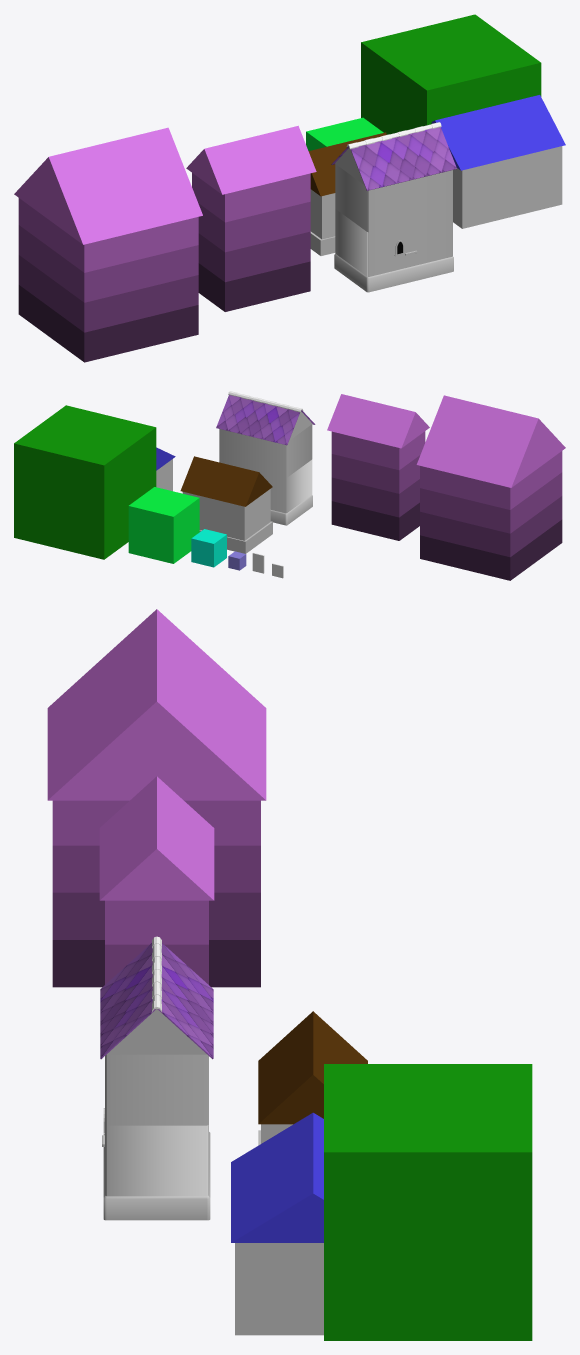
File: small_house_006.fbx
3 views of the same model, one above another, from view 1: azimuth 30°, elevation 25°; view 2: azimuth 150°, elevation 25°; view 3: azimuth 270°, elevation 25° (orthographic). The views are drawn at different scales.
Parts seen in each view (by area): view 1: 8x8m_Part, 0_Roof, Walls, Roof, 2_Middle_Top, 3_Middle_Bottom, 4_Bottom, 0_Roof.001, Stone_Wall, 1_Top, Plaster_Wall, Roof_Scaled_Up (+10 smaller); view 2: 8x8m_Part, 0_Roof, 4x4m_Part, 2_Middle_Top, 4_Bottom, 3_Middle_Bottom, 0_Roof.001, 1_Top, Plaster_Wall, Roof.001, Roof_Scaled_Up, Walls.001 (+12 smaller); view 3: 8x8m_Part, 0_Roof, 0_Roof.001, Roof, Walls, Roof_Scaled_Up, Stone_Wall, Plaster_Wall, Roof.001, 1_Top, 4_Bottom, 3_Middle_Bottom (+5 smaller).
Boxes of the visible parts, x1=… form: 8x8m_Part: x1=361, y1=14, x2=541, y2=134; 0_Roof: x1=14, y1=127, x2=202, y2=244; Walls: x1=453, y1=146, x2=562, y2=228; Roof: x1=431, y1=95, x2=565, y2=170; 2_Middle_Top: x1=18, y1=225, x2=198, y2=302; 3_Middle_Bottom: x1=18, y1=255, x2=198, y2=332; 4_Bottom: x1=18, y1=285, x2=198, y2=362; 0_Roof.001: x1=186, y1=125, x2=316, y2=194; Stone_Wall: x1=335, y1=209, x2=452, y2=276; 1_Top: x1=18, y1=198, x2=198, y2=272; Plaster_Wall: x1=335, y1=164, x2=452, y2=232; Roof_Scaled_Up: x1=331, y1=127, x2=456, y2=190; 8x8m_Part: x1=14, y1=405, x2=156, y2=559; 0_Roof: x1=416, y1=395, x2=565, y2=487; 4x4m_Part: x1=128, y1=487, x2=199, y2=563; 2_Middle_Top: x1=420, y1=472, x2=562, y2=533; 4_Bottom: x1=420, y1=519, x2=562, y2=580; 3_Middle_Bottom: x1=420, y1=496, x2=562, y2=557; 0_Roof.001: x1=327, y1=394, x2=429, y2=448; 1_Top: x1=420, y1=451, x2=562, y2=509; Plaster_Wall: x1=219, y1=424, x2=312, y2=477; Roof.001: x1=180, y1=456, x2=272, y2=506; Roof_Scaled_Up: x1=216, y1=395, x2=315, y2=445; Walls.001: x1=182, y1=489, x2=270, y2=540; 8x8m_Part: x1=324, y1=1064, x2=532, y2=1340; 0_Roof: x1=47, y1=609, x2=266, y2=800; 0_Roof.001: x1=99, y1=776, x2=214, y2=900; Roof: x1=231, y1=1112, x2=323, y2=1242; Walls: x1=235, y1=1243, x2=323, y2=1335; Roof_Scaled_Up: x1=100, y1=943, x2=213, y2=1059; Stone_Wall: x1=105, y1=1125, x2=208, y2=1196; Plaster_Wall: x1=105, y1=1054, x2=208, y2=1125; Roof.001: x1=258, y1=1011, x2=367, y2=1124; 1_Top: x1=52, y1=800, x2=260, y2=845; 4_Bottom: x1=52, y1=940, x2=260, y2=987; 3_Middle_Bottom: x1=52, y1=892, x2=260, y2=939.
Bounding box in the file's own units: 1862 × 1320 × 3820.
